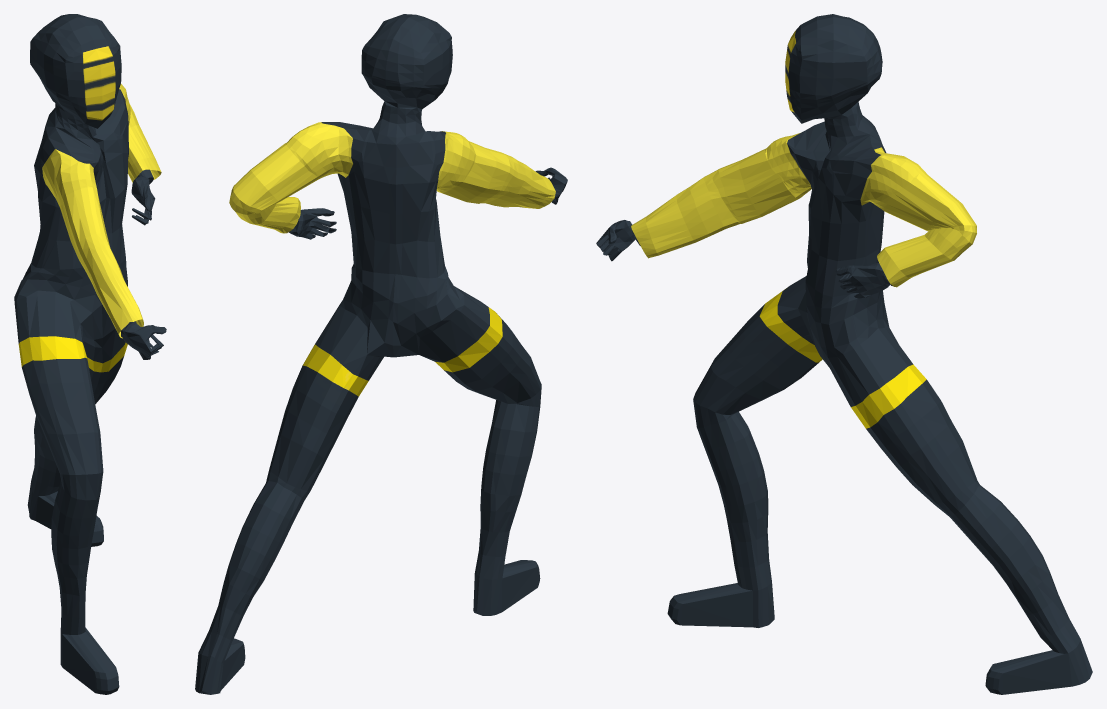
Rendered from Sentry_WR_000014.obj.
3 views of the same model, side by side, from view 1: azimuth 30°, elevation 25°; view 2: azimuth 150°, elevation 25°; view 3: azimuth 270°, elevation 25° (orthographic). The views are drawn at different scales.
Parts seen in each view (by area): view 1: Cube; view 2: Cube; view 3: Cube.
Part boxes in pixels (x1,y1,x2,y2): Cube: (14, 14, 166, 694); Cube: (195, 14, 567, 694); Cube: (596, 14, 1092, 694).
Size of the model in its own units: 1.18 by 3.59 by 2.58.
